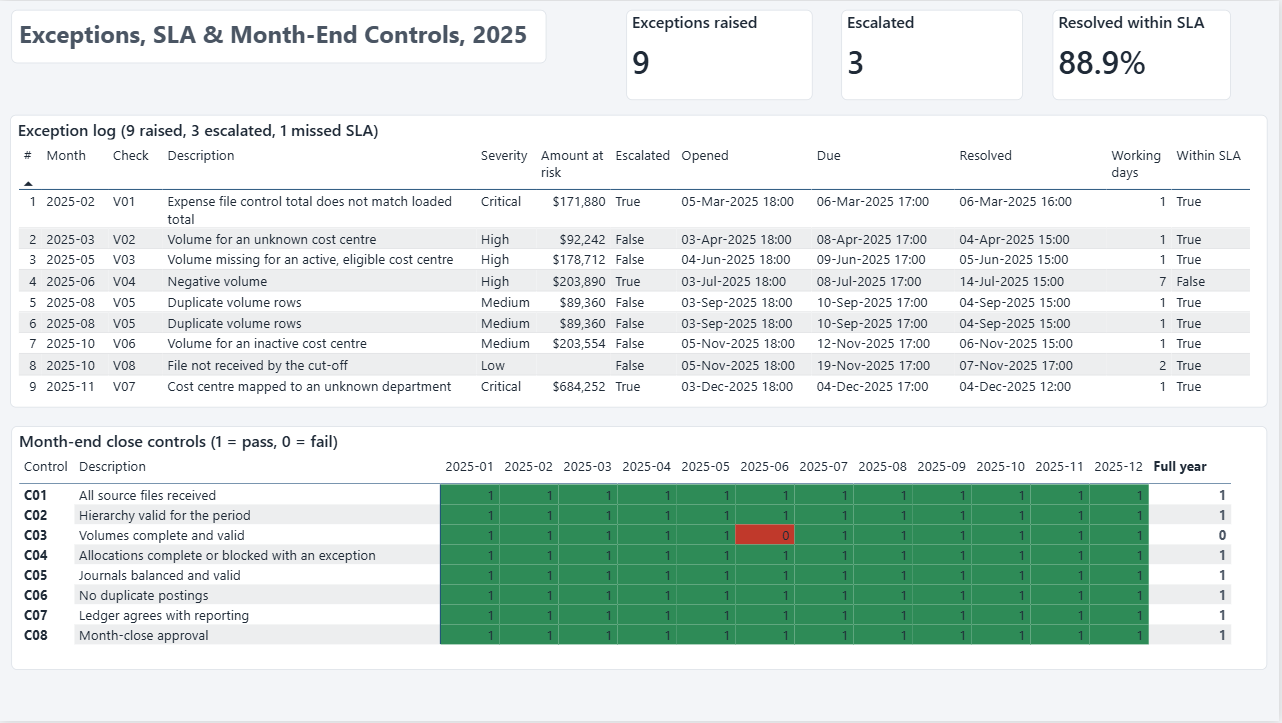

The page's visual inventory and layout, read from the dashboard file:
{"tool":"powerbi","page":{"name":"Exceptions & Controls","canvas":[1280,720],"ordinal":2},"visuals":[{"type":"cardVisual","title":"Escalated","fields":{"Data":["Report Measures.Exceptions Escalated"]},"box":[841.2,8.8,181.2,90],"z":0},{"type":"cardVisual","title":"Resolved within SLA","fields":{"Data":["Report Measures.Resolved Within SLA %"]},"box":[1052.5,8.8,178.8,90],"z":1000},{"type":"cardVisual","title":"Exceptions raised","fields":{"Data":["Report Measures.Exceptions Raised"]},"box":[626.2,8.8,186.2,90],"z":2000},{"type":"tableEx","title":"Exception log (9 raised, 3 escalated, 1 missed SLA)","fields":{"Values":["Exceptions.exception_id","Exceptions.period","Exceptions.check_code","Exceptions.check_name","Exceptions.severity","Exceptions.amount_at_risk","Exceptions.escalated","Exceptions.opened_at","Exceptions.due_at","Exceptions.resolved_at","Exceptions.working_days_to_resolve","Exceptions.resolved_within_sla"]},"box":[10,113.8,1257.5,292.5],"z":3000},{"type":"pivotTable","title":"Month-end close controls (1 = pass, 0 = fail)","fields":{"Rows":["ControlResults.control_id","ControlResults.control_name"],"Columns":["DimPeriod.period"],"Values":["Report Measures.Control Pass Flag"]},"box":[11.2,425,1256.2,243.8],"z":4000},{"type":"textbox","box":[11.2,8.8,535,53.8],"z":5000}]}

Visuals, with their boxes in screenshot pixels (x1, y1, x2, y2), scaled from the page's 1280x720 canvas onto the 1282x723 screenshot:
"Escalated" cardVisual: (x1=843, y1=9, x2=1024, y2=99)
"Resolved within SLA" cardVisual: (x1=1054, y1=9, x2=1233, y2=99)
"Exceptions raised" cardVisual: (x1=627, y1=9, x2=814, y2=99)
"Exception log (9 raised, 3 escalated, 1 missed SLA)" tableEx: (x1=10, y1=114, x2=1269, y2=408)
"Month-end close controls (1 = pass, 0 = fail)" pivotTable: (x1=11, y1=427, x2=1269, y2=672)
textbox: (x1=11, y1=9, x2=547, y2=63)
